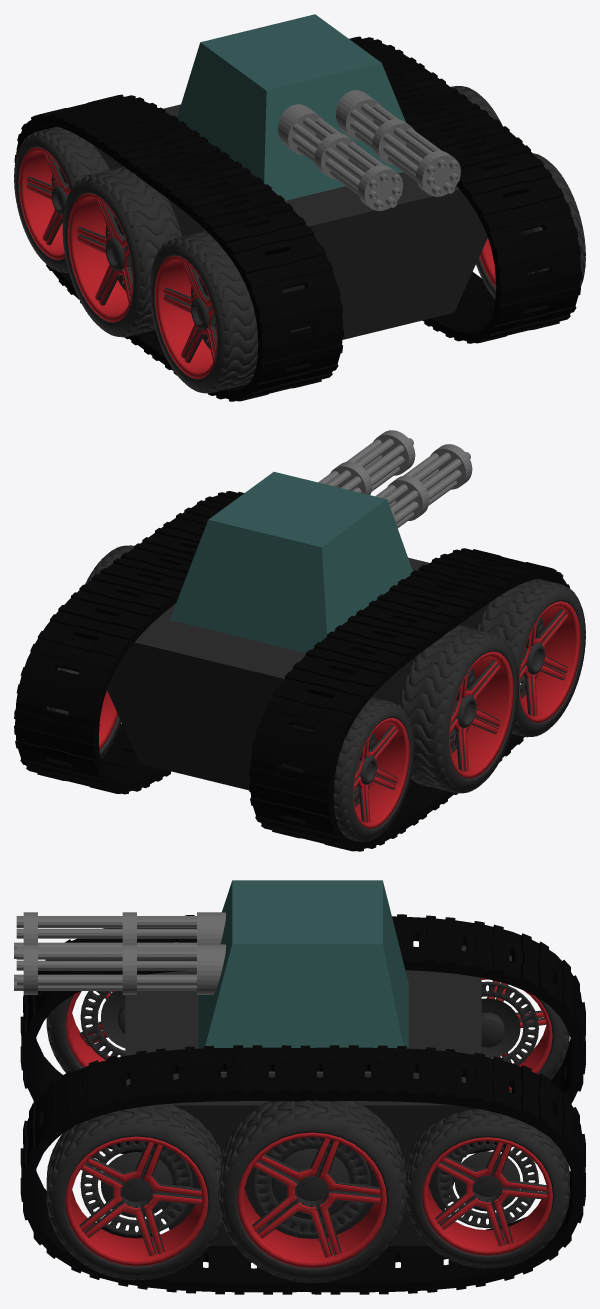
File: tanktaret2.fbx
3 views of the same model, one above another, from view 1: azimuth 30°, elevation 25°; view 2: azimuth 150°, elevation 25°; view 3: azimuth 270°, elevation 25° (orthographic). The views are drawn at different scales.
Parts seen in each view (by area): view 1: Cube.002, Cube.001, Plane; view 2: Cube.002, Cube.001, Plane; view 3: Cube.002, Cube.001, Plane.
Part boxes in pixels (box(x1,y1,x2,y2)): Cube.002: box(14, 86, 585, 393); Cube.001: box(14, 36, 582, 401); Plane: box(177, 14, 460, 210); Cube.002: box(47, 504, 585, 841); Cube.001: box(14, 491, 569, 851); Plane: box(170, 430, 472, 652); Cube.002: box(46, 928, 569, 1282); Cube.001: box(20, 914, 585, 1294); Plane: box(14, 880, 408, 1072).
Bounding box in the file's own units: 474 × 305 × 543.
